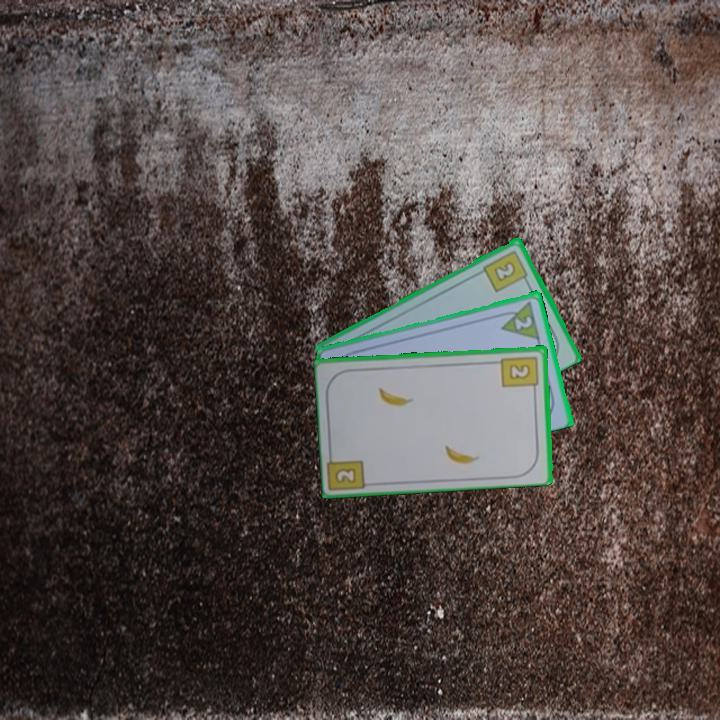2b: (480, 246, 531, 295), (498, 352, 542, 394), (331, 464, 359, 486)
2p: (511, 312, 535, 332)
